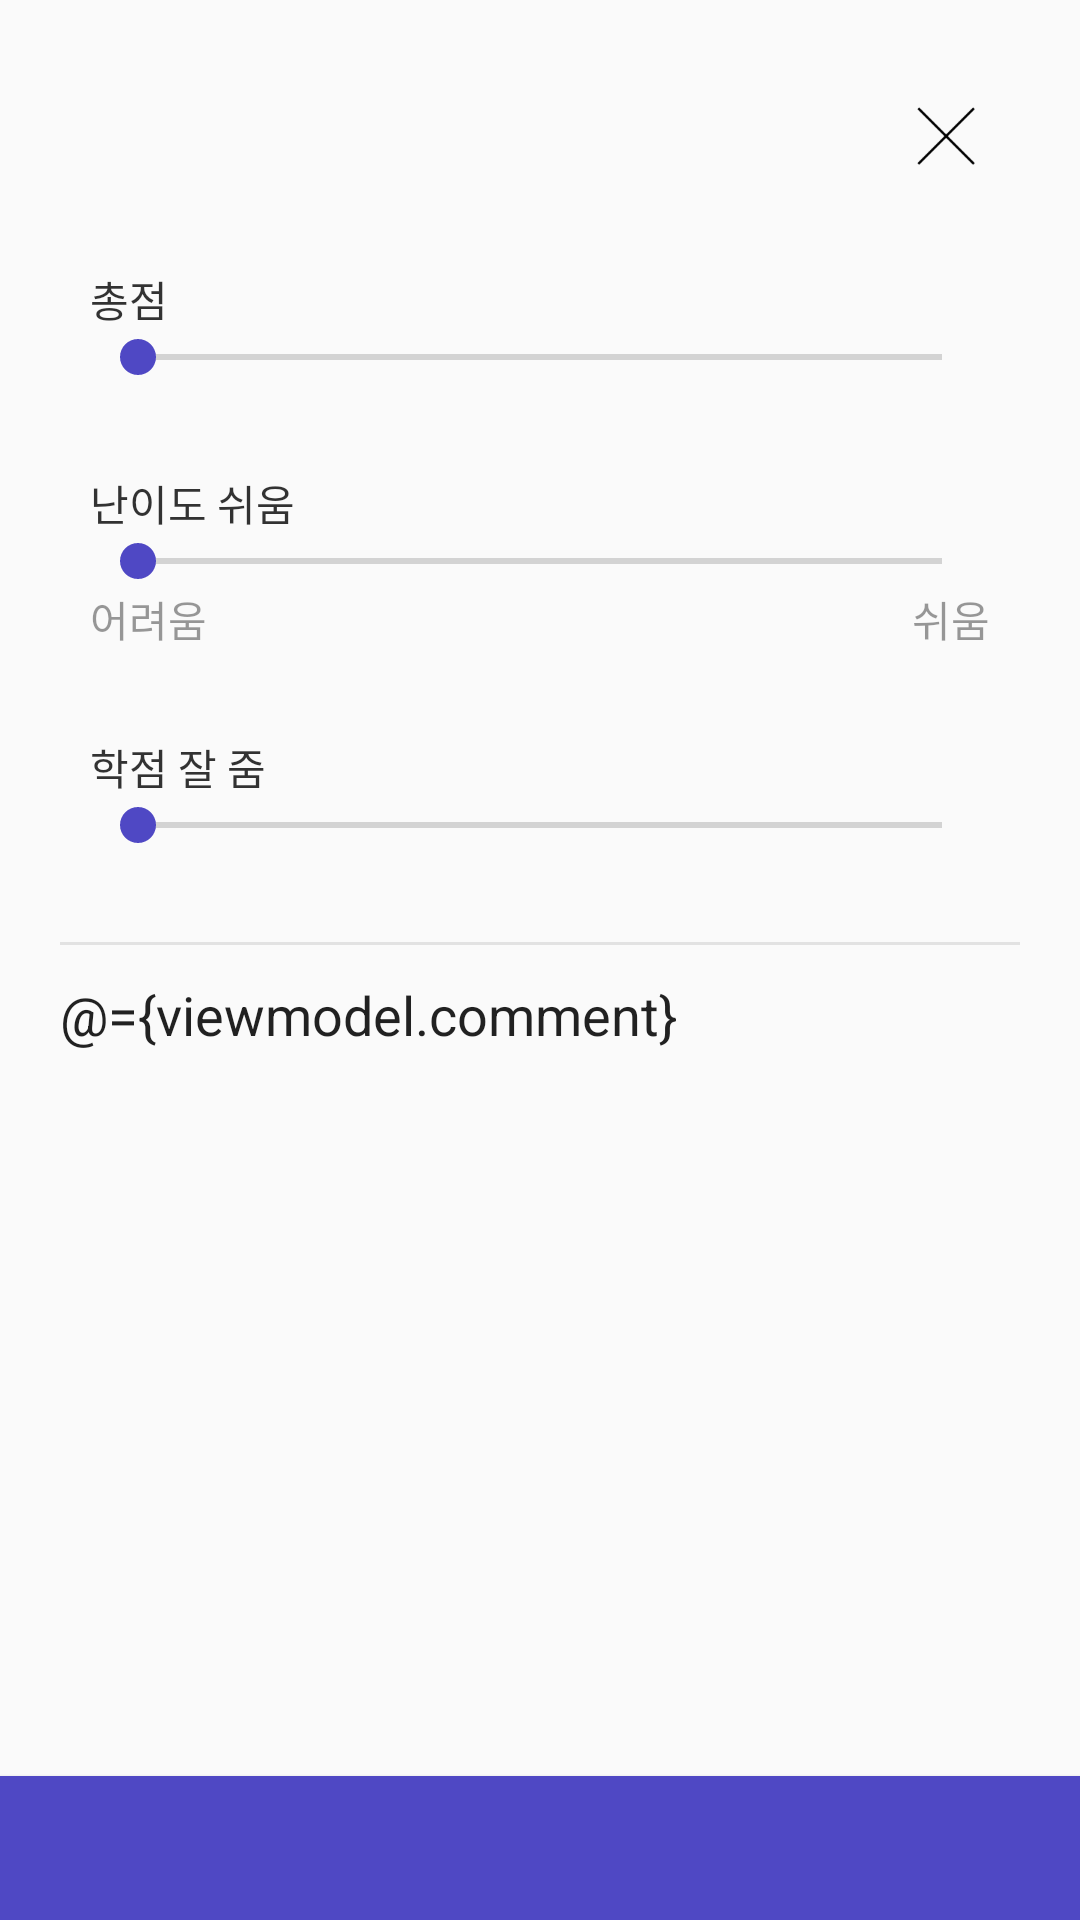

Named icons in this screenshot (1080 × 1920) and their centers, point (x, y):
close: point (946, 136)
